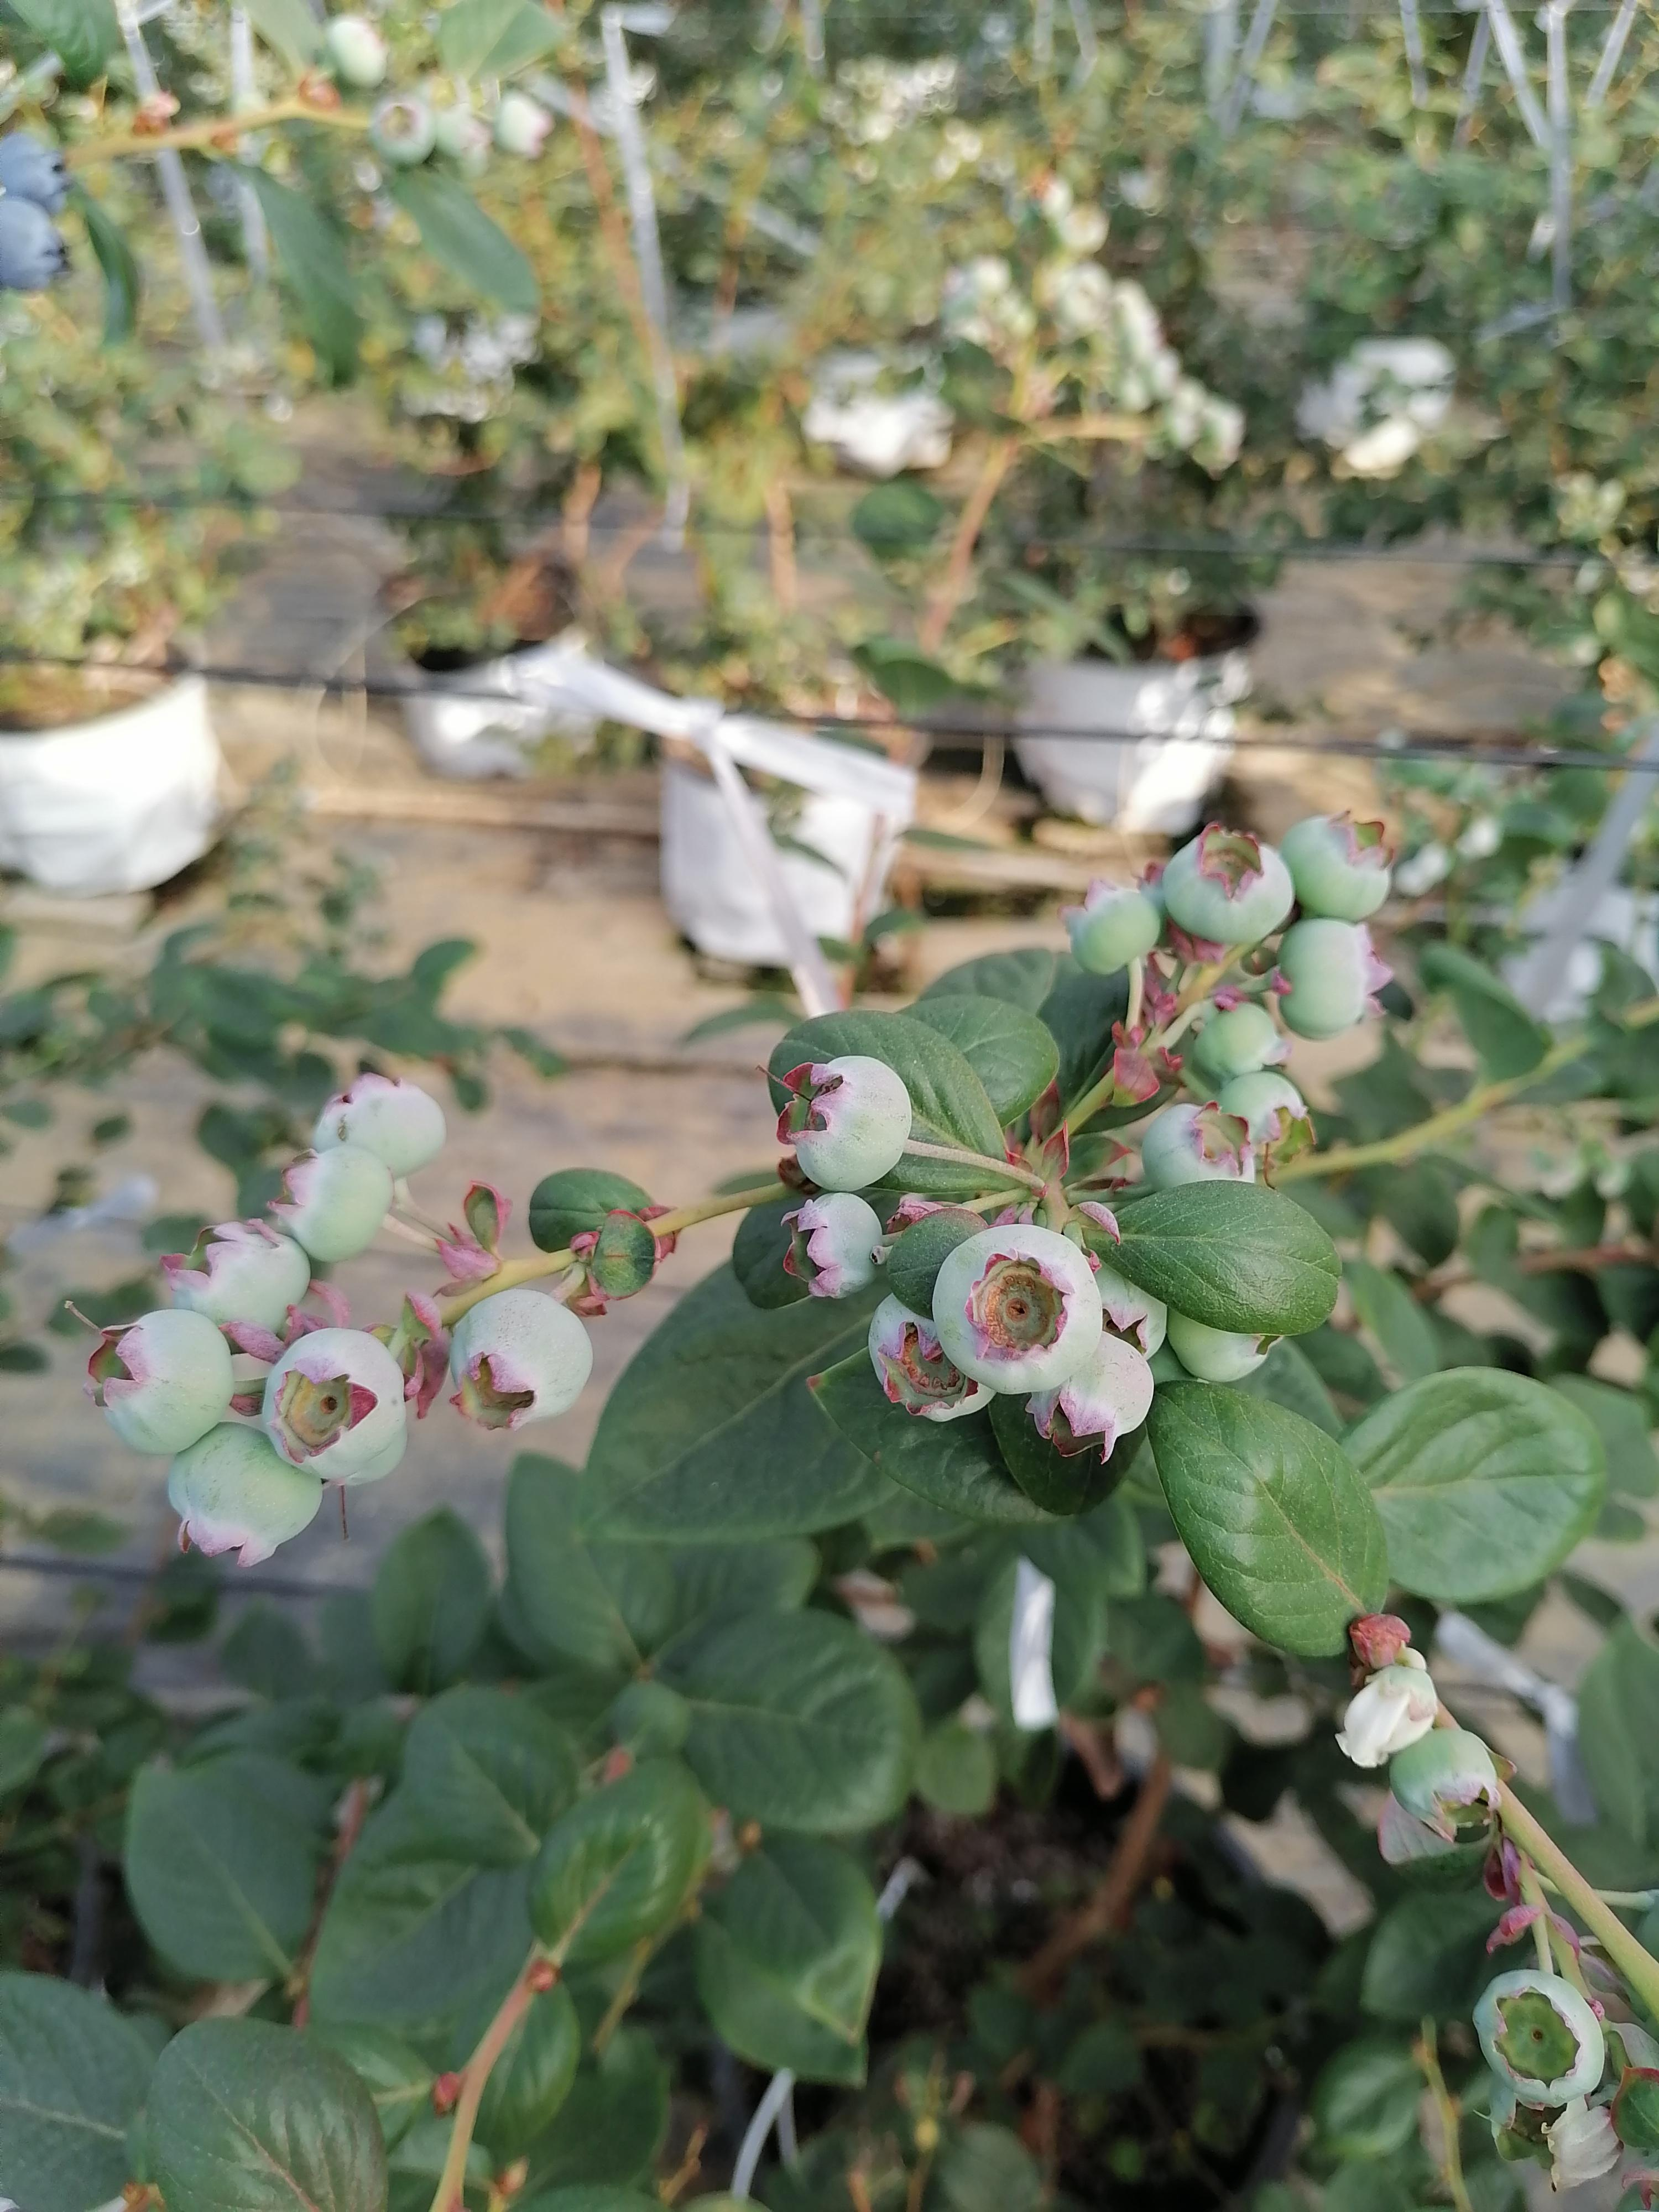ripe-blueberries: (3, 199, 70, 294), (0, 131, 71, 211)
